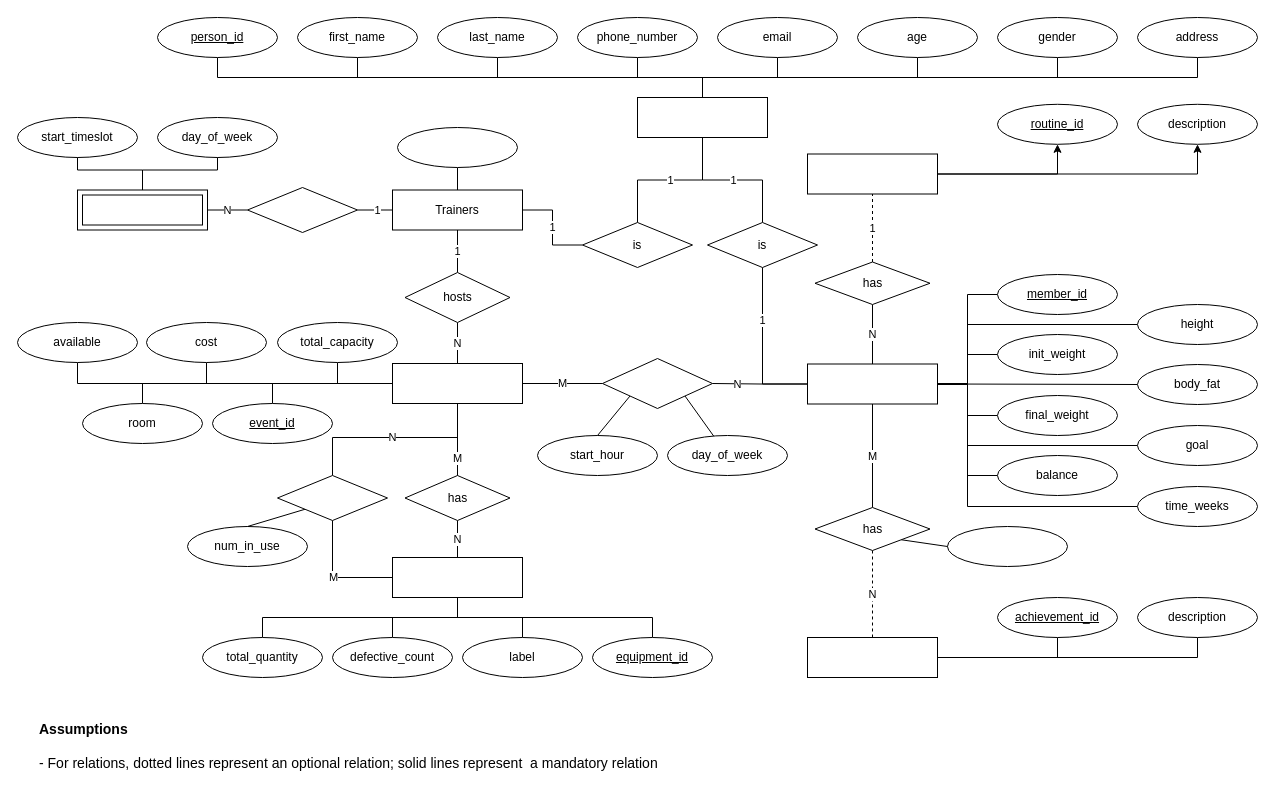
Some shapes in this 1275 by 808 pixel diagram are drawn without their labels. Each missing label, with the centre of its shape:
"attends" goes at (x=657, y=383).
"Availability" goes at (x=142, y=209).
"date_achieved" goes at (x=1007, y=546).
"Equipment" goes at (x=457, y=577).
"Events" goes at (x=457, y=383).
"ExerciseRoutines" goes at (x=872, y=173).
"FitnessAchievments" goes at (x=872, y=657).
"Members" goes at (x=872, y=383).
"People" goes at (x=702, y=117).
"sets" goes at (x=302, y=209).
"trainer_id" goes at (x=457, y=147).
"uses" goes at (x=332, y=497).
